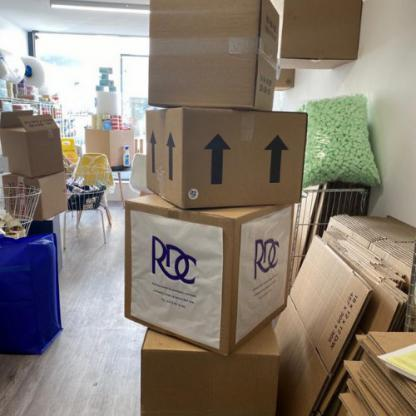box: (122, 191, 307, 356), (144, 103, 309, 209), (146, 0, 280, 110), (139, 328, 286, 416), (274, 0, 364, 71), (2, 105, 66, 178), (0, 173, 71, 219), (81, 125, 134, 169)
